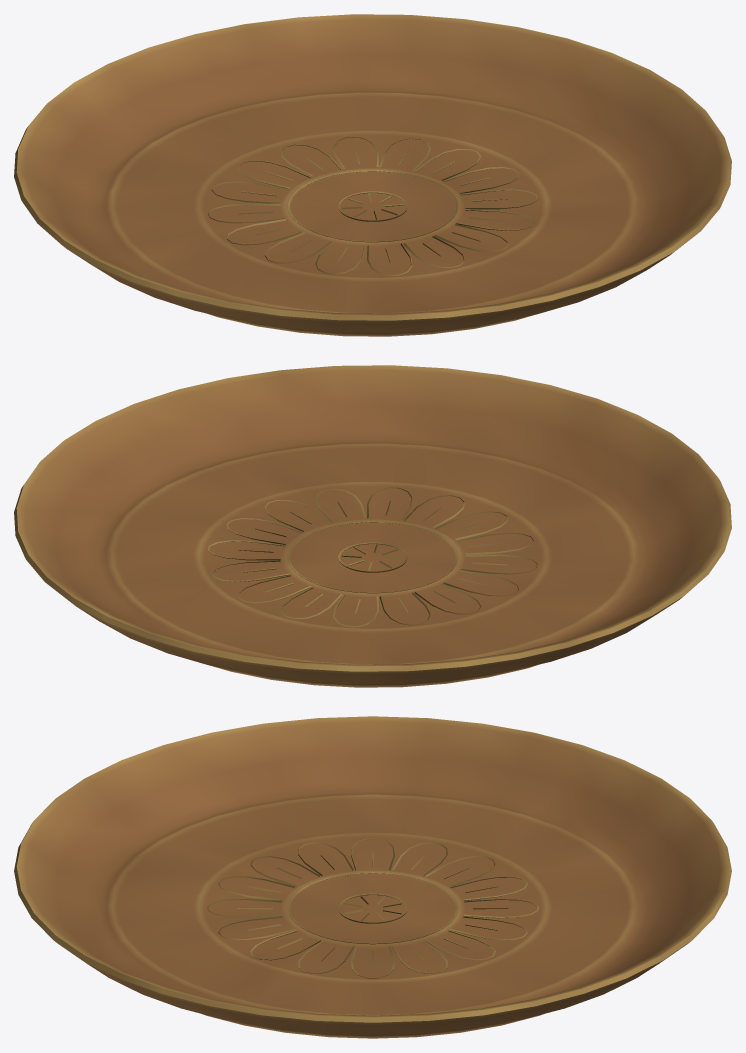
Rendered from reveal-tray.09f1115b.glb.
3 renders of one model, top to bottom at view 1: azimuth 30°, elevation 25°; view 2: azimuth 150°, elevation 25°; view 3: azimuth 270°, elevation 25°, orthographic.
Visible parts, largest first — view 1: reveal_tray; view 2: reveal_tray; view 3: reveal_tray.
Part boxes in pixels (x1=…): reveal_tray: x1=14, y1=14, x2=731, y2=336; reveal_tray: x1=14, y1=365, x2=731, y2=687; reveal_tray: x1=14, y1=716, x2=731, y2=1038.
Bounding box in the file's own units: 0.264 × 0.022 × 0.264.
